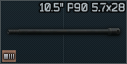FN P90 5.7x28 10.5 inch barrel: (0, 0, 127, 64)
